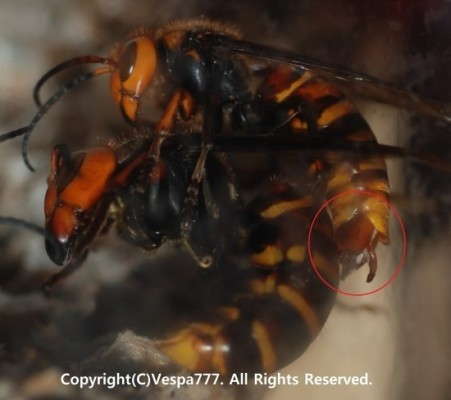asian_giant_hornet: (86, 16, 395, 263), (43, 133, 344, 382)
